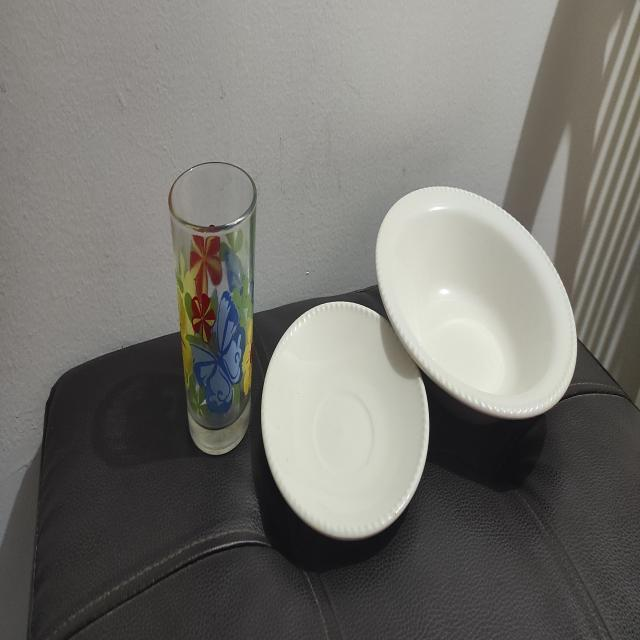ceramic plate: (351, 113, 578, 457), (258, 294, 436, 560)
